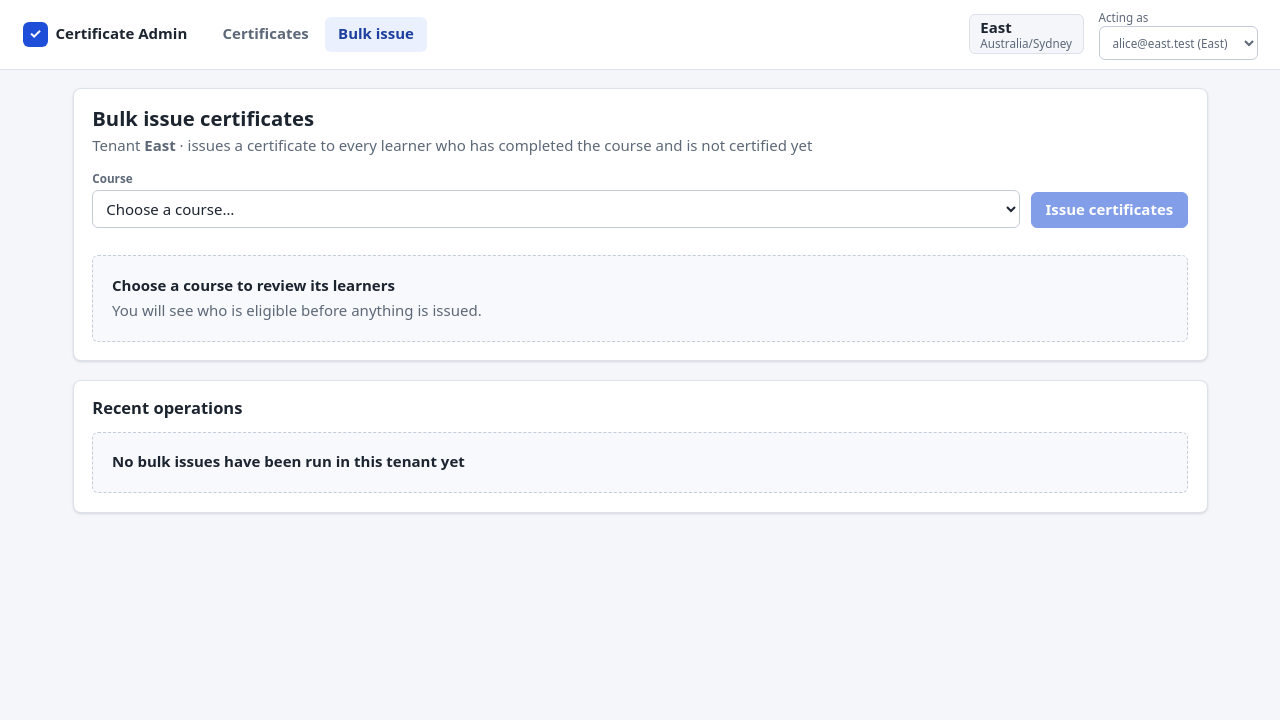
Bulk issue: preview › previews the roster: who is eligible and why the others will be skipped
Expected: the heading "Bulk issue certificates" is shown, [92, 104, 314, 132]
Select "Safety 101" in the dropdown with test id "course-select" at (556, 209), box [92, 190, 1020, 228]
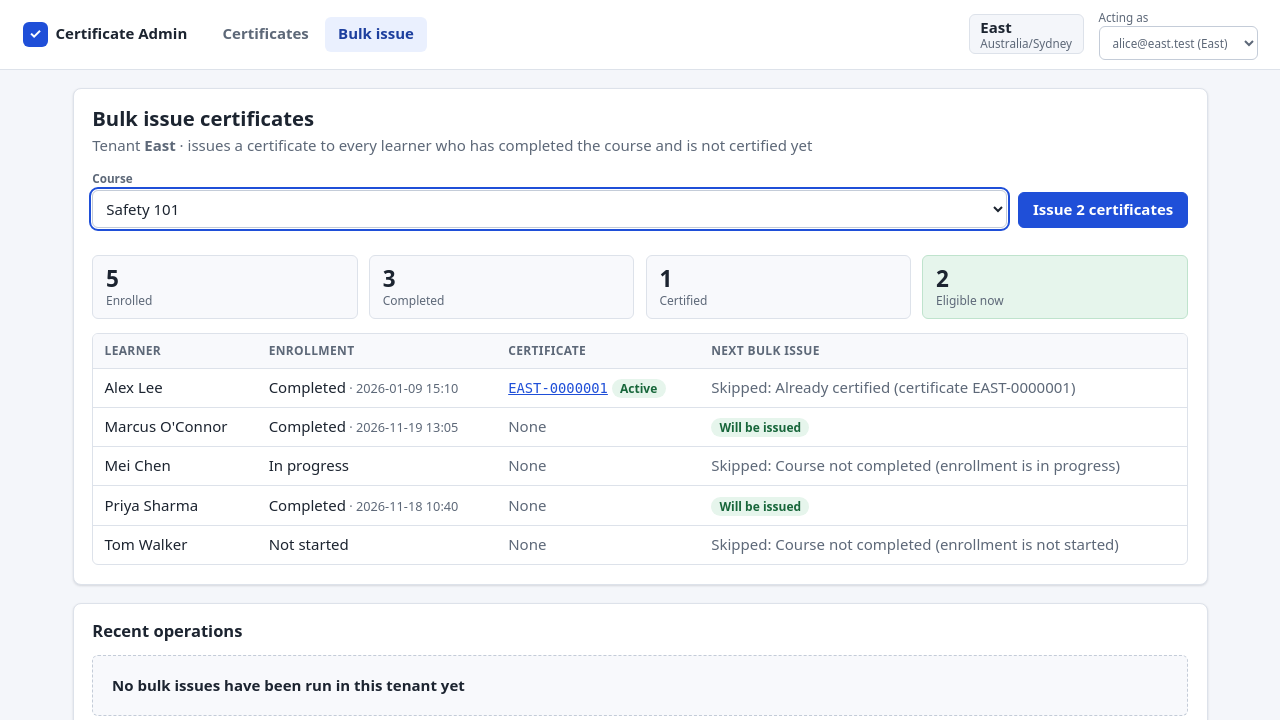
Expected: the element with test id "roster-summary" reads "5 Enrolled 3 Completed 1 Certified 2 Eligible now", [92, 255, 1188, 319]
Expected: the text with test id "eligible-count" reads "2", [936, 263, 949, 294]
Expected: the cell "In progress" is shown, [257, 446, 497, 486]
